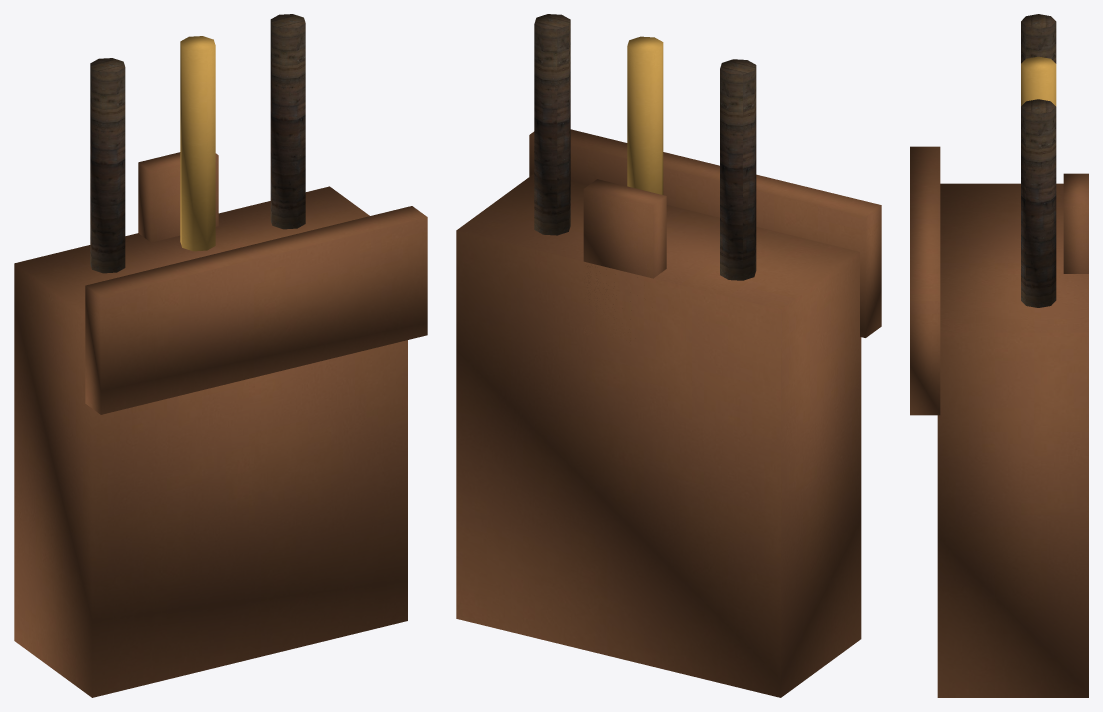
File: prop_jeweler_tools.glb
3 views of the same model, side by side, from view 1: azimuth 30°, elevation 25°; view 2: azimuth 150°, elevation 25°; view 3: azimuth 270°, elevation 25° (orthographic). The views are drawn at different scales.
Visible parts, largest first — view 1: jeweler_tools; view 2: jeweler_tools; view 3: jeweler_tools.
Part boxes in pixels (x1,y1,x2,y2): jeweler_tools: [14, 14, 427, 697]; jeweler_tools: [456, 14, 881, 697]; jeweler_tools: [910, 14, 1088, 697].
Bounding box in the file's own units: 0.145 × 0.245 × 0.071.
1 material, 1 textured.
